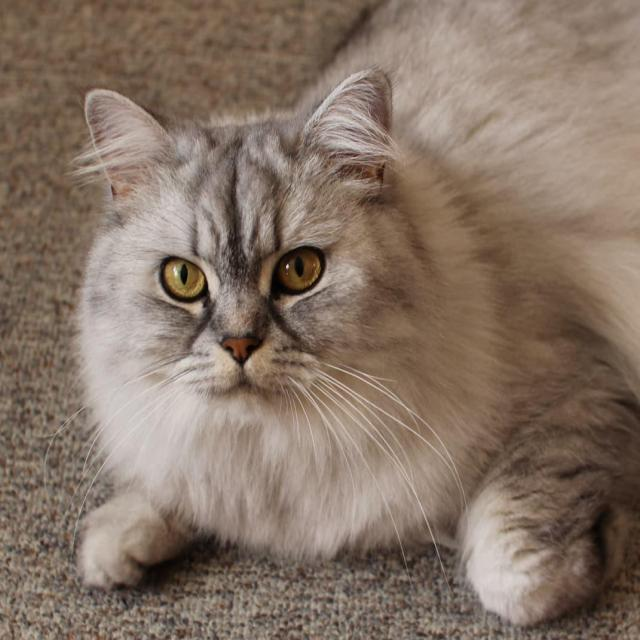Cat: (70, 60, 420, 438)
